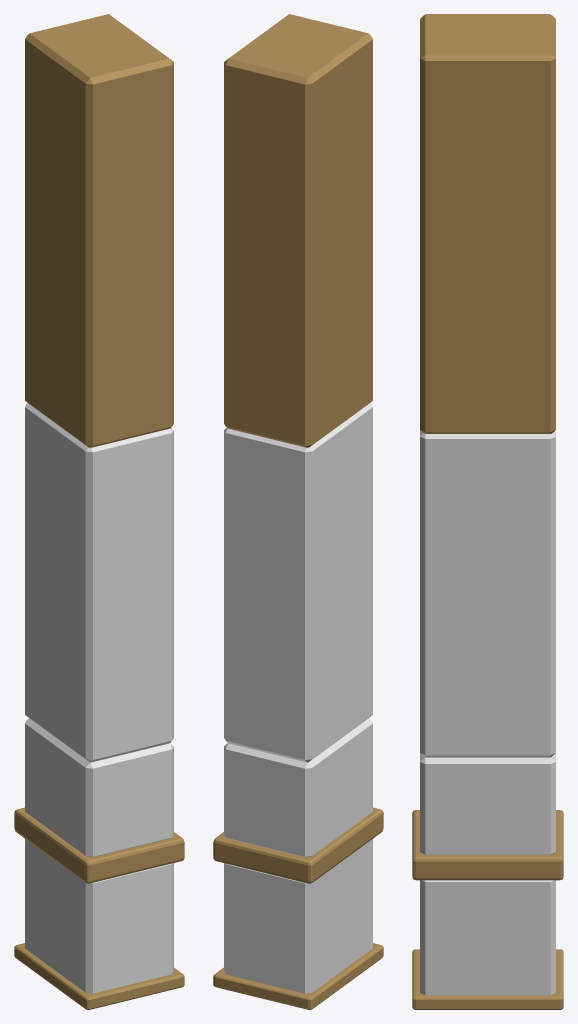
The model's file is FBX_Pillar_Square_Sandstone_01.fbx.
The picture shows the model from 3 angles, left to right: view 1: azimuth 30°, elevation 25°; view 2: azimuth 150°, elevation 25°; view 3: azimuth 270°, elevation 25°; orthographic projection. The views are drawn at different scales.
Visible parts, largest first — view 1: Cube.003; view 2: Cube.003; view 3: Cube.003.
Boxes of the visible parts, x1,y1,x2,y2 form: Cube.003: [14, 14, 184, 1009]; Cube.003: [213, 14, 383, 1009]; Cube.003: [412, 14, 563, 1009].
Size of the model in its own units: 2.24 by 20.05 by 2.89.
